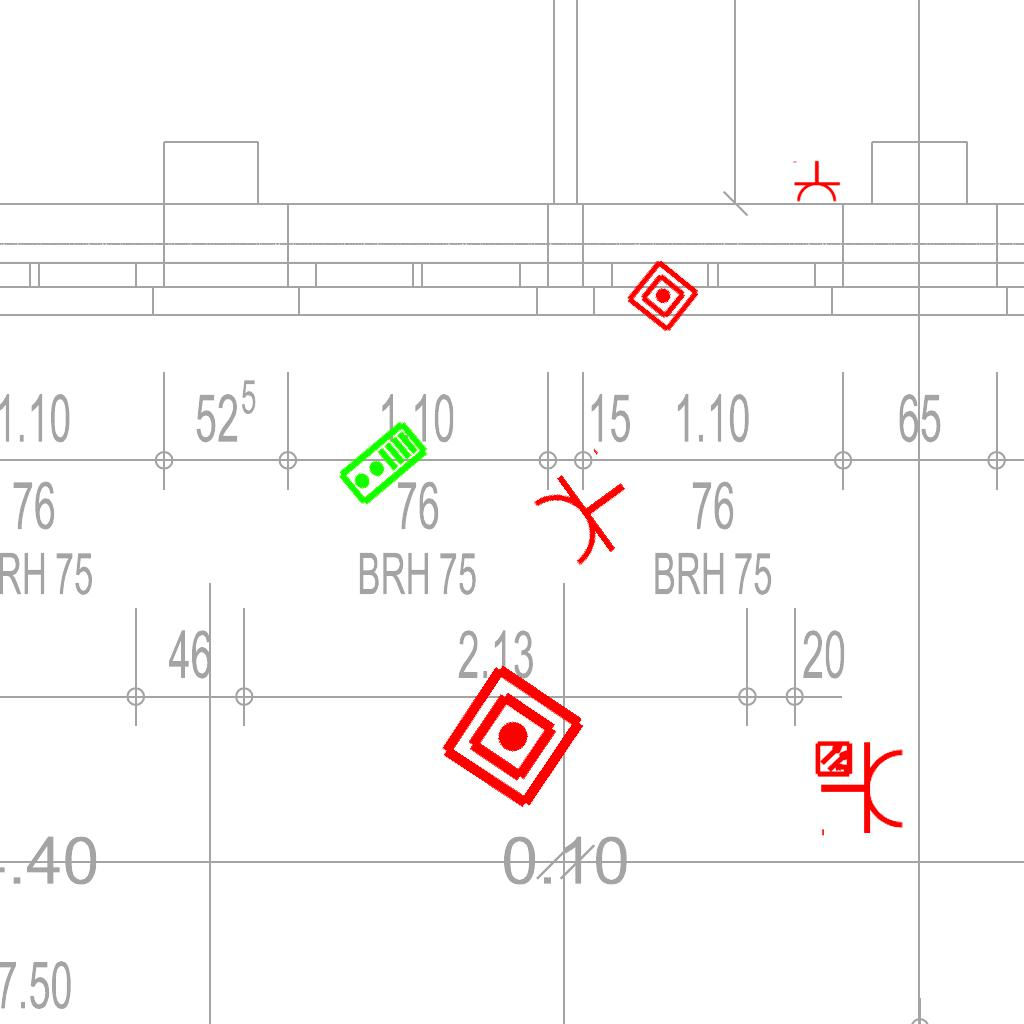Gegensprechanlage_mit_Video: (334, 417, 433, 511)
NAM-Nichtautomatischer_Melder: (434, 658, 591, 815), (623, 256, 703, 336)
OT_Multisensormelder_(Kombination_RMO_WMD): (807, 731, 863, 787)
Schukosteckdose_einfach: (523, 442, 654, 576), (819, 740, 906, 840), (791, 160, 841, 203)
